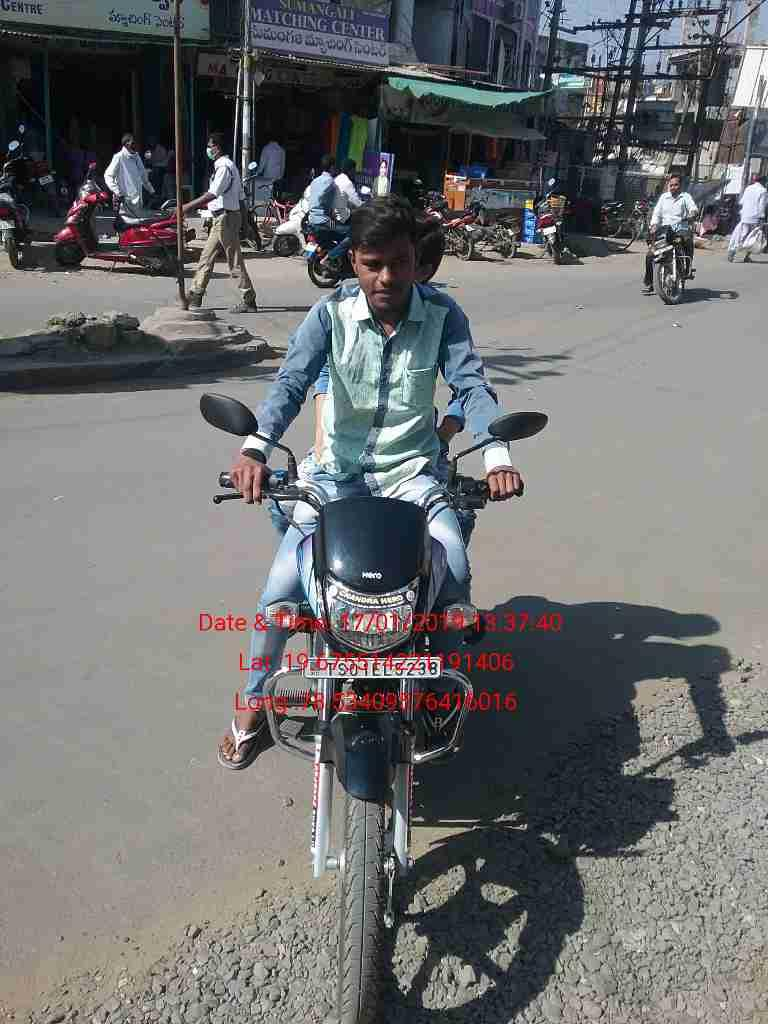plate: (300, 653, 444, 685)
